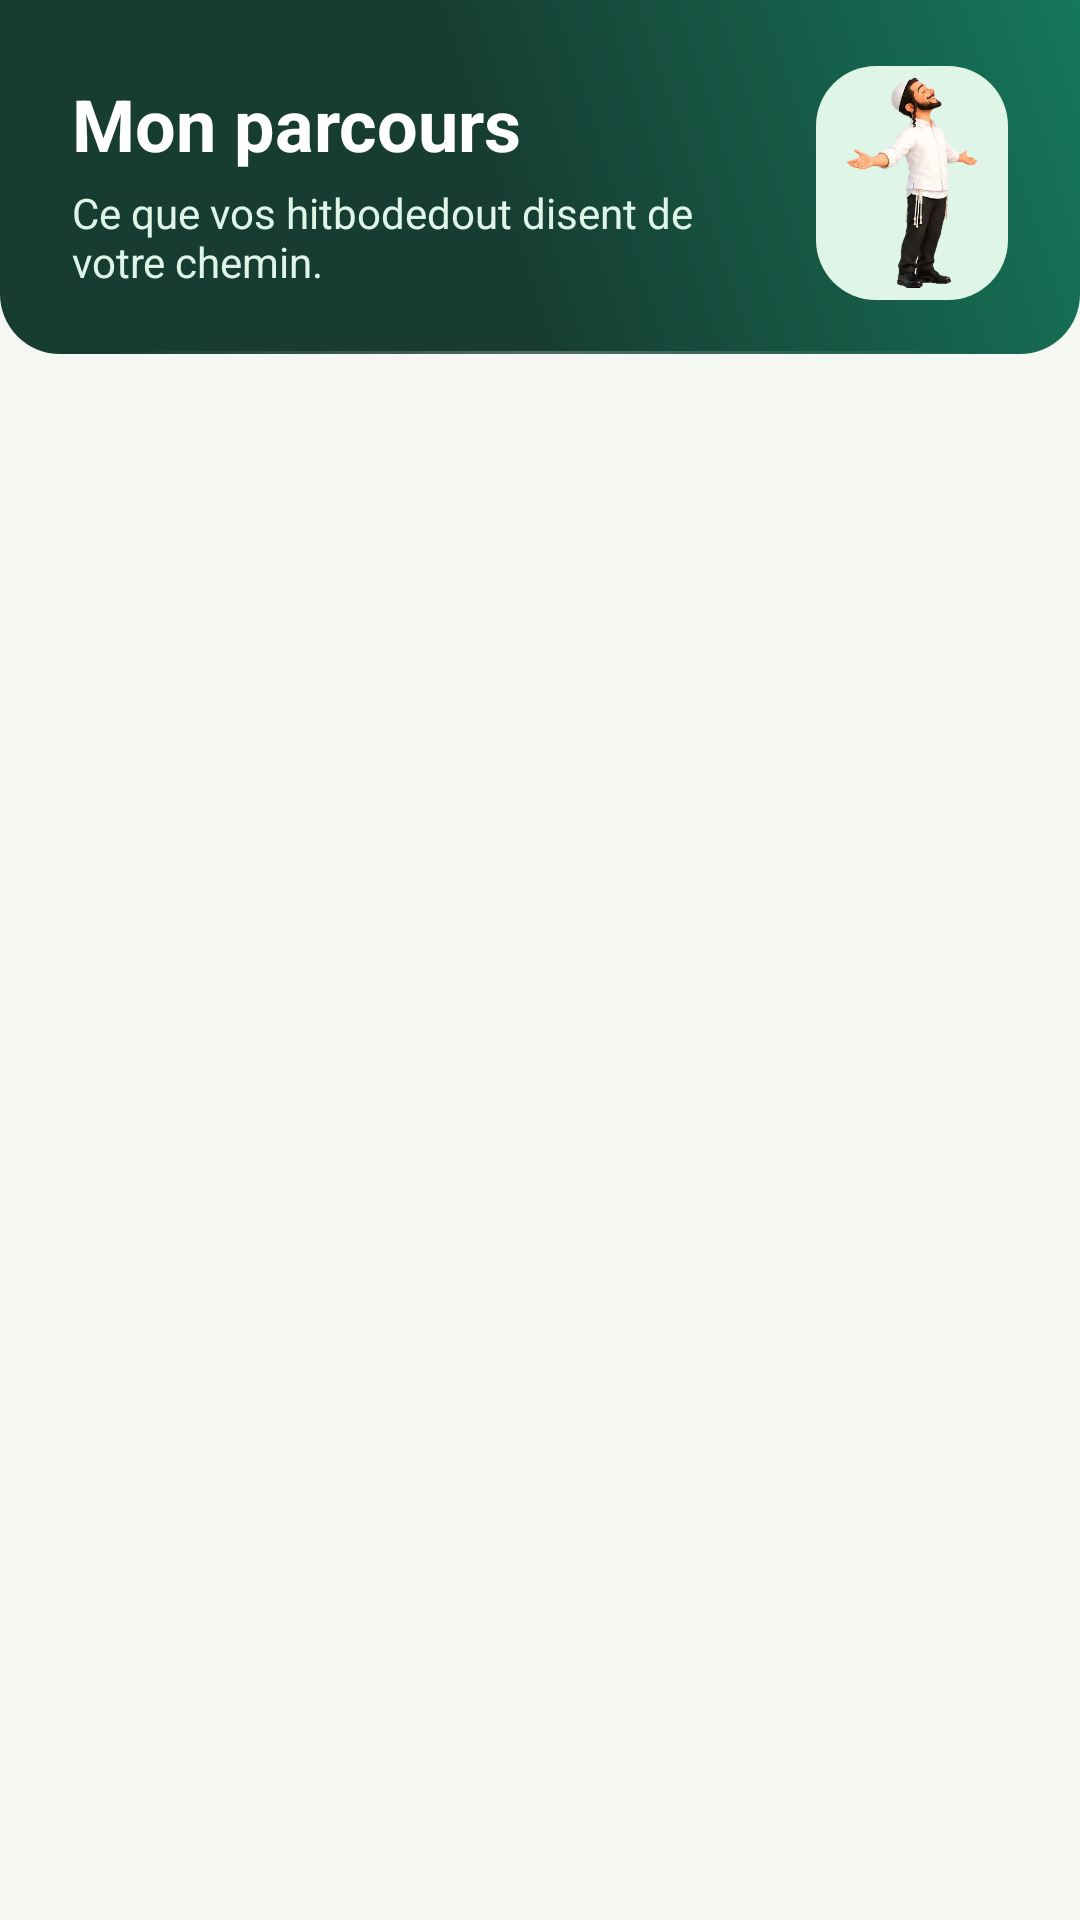

Icons on this 1080×1920 Android screen, each with the point to tap as (x,y):
char praise: (912,183)
